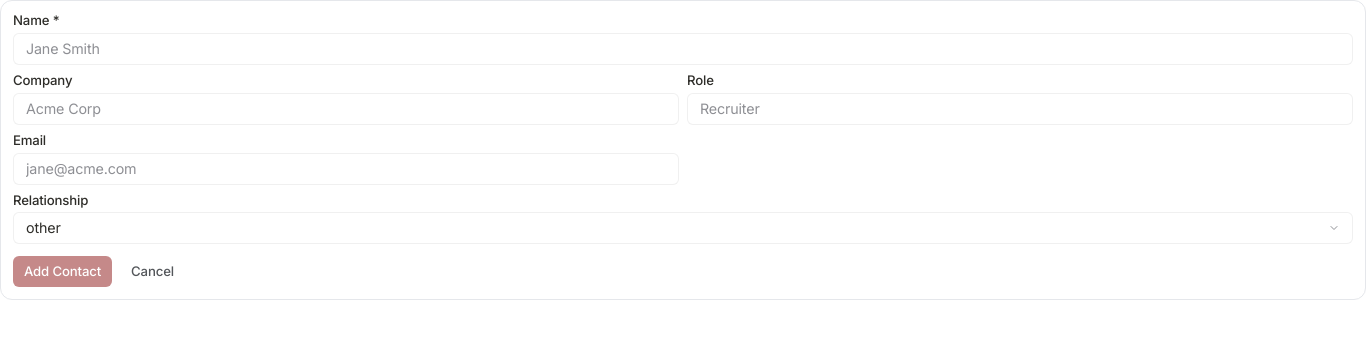
Scenario: ContactForm › form submission › should surface an error and keep the form open when linking fails
Type "John Doe" into the field with placeholder "Jane Smith" at (683, 49), box [13,33,1353,65]
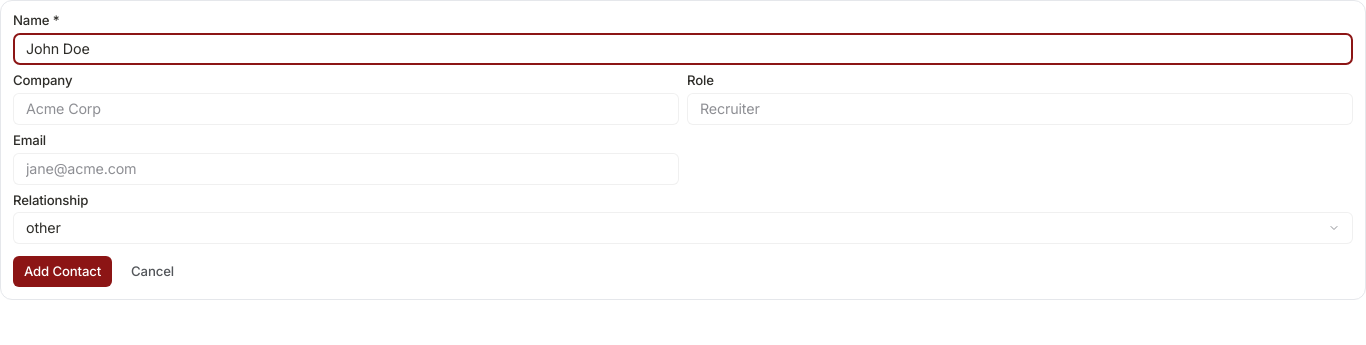
Click the button "Add Contact" at (63, 272), box [13,256,112,287]
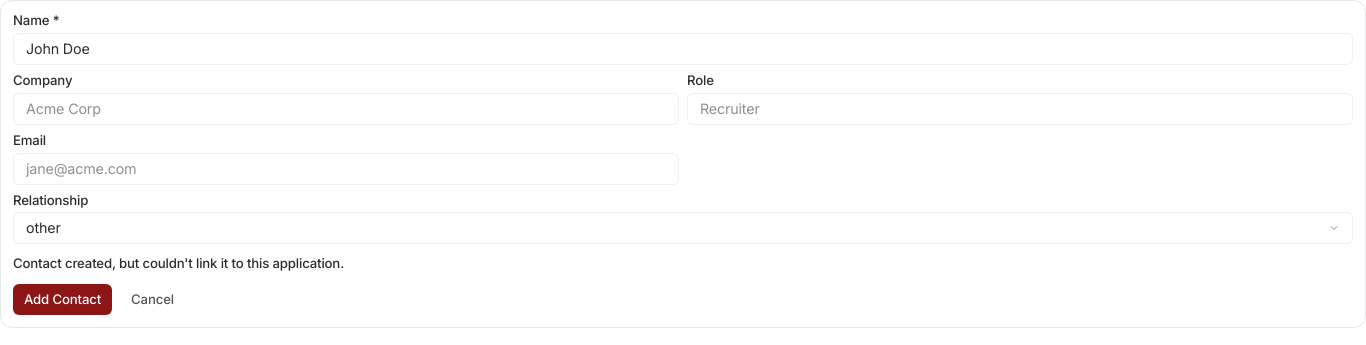
Result: the message reads "Contact created, but couldn't link it to this application." at [13,255,344,271]
